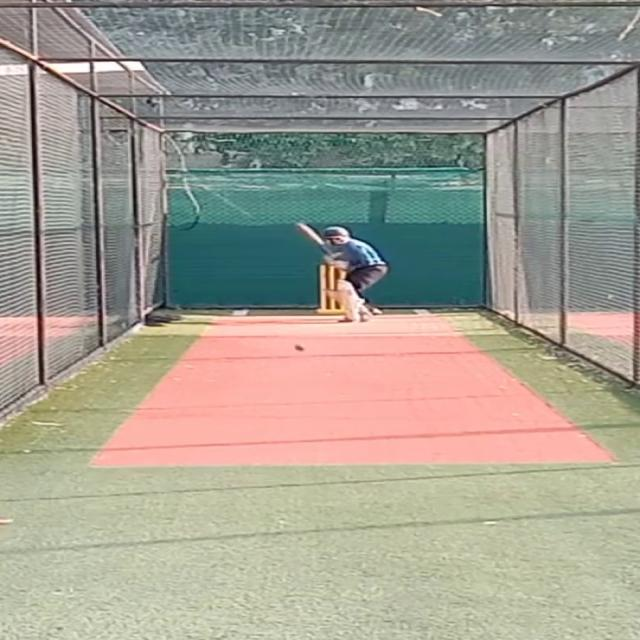ball: (288, 343, 307, 353)
stump: (313, 263, 338, 314)
